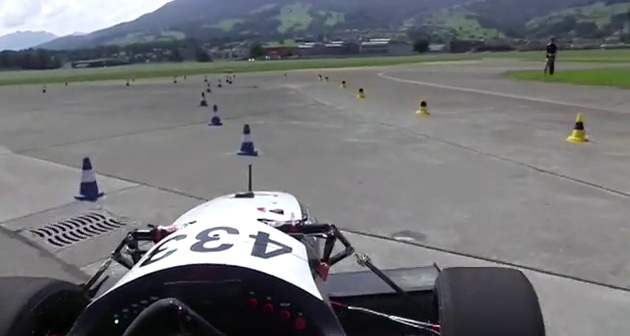Cone: (74, 154, 108, 204), (564, 109, 594, 146), (235, 122, 260, 158), (414, 94, 433, 117), (208, 103, 225, 126), (199, 90, 210, 109)
